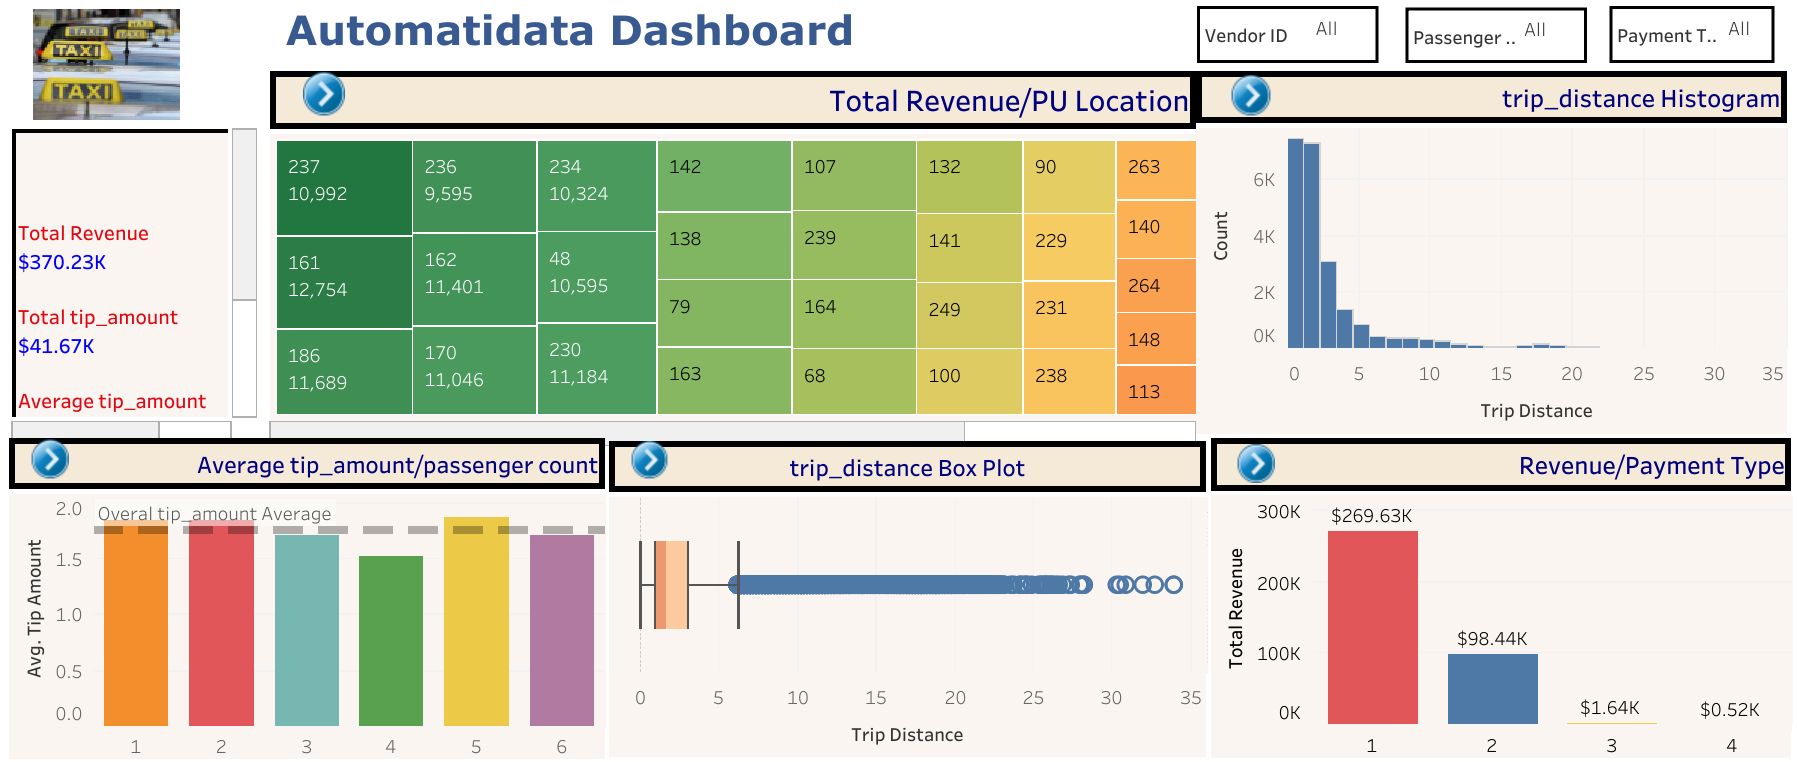

The page's visual inventory and layout, read from the dashboard file:
{"tool":"tableau","page":{"name":"Dashboard 6","canvas":[1000,1000],"units":"permille","ordinal":1},"visuals":[{"type":"filter","title":"avg. tip","param":"[federated.0n8pdzu1b0iim31cx3qr00xyqdhs].[none:VendorID:ok]","box":[665.2,8.6,101,74.6]},{"type":"filter","title":"avg. tip","param":"[federated.0n8pdzu1b0iim31cx3qr00xyqdhs].[none:payment_type:ok]","box":[895.3,8.6,91.7,74.6]},{"type":"filter","title":"avg. tip","param":"[federated.0n8pdzu1b0iim31cx3qr00xyqdhs].[none:passenger_count:ok]","box":[781.2,9.8,101,73.4]},{"type":"image","param":"Image/images.jpg","box":[18.7,11,102.9,146.7]},{"type":"worksheet","title":"Rev. PU loc.","mark":"Automatic","box":[149.9,92.9,515.1,492.7]},{"type":"worksheet","title":"hist-tri_dist","mark":"Automatic","rows":["trip_distance"],"cols":["Trip Distance (bin)"],"box":[664.4,92.9,328.7,475.6]},{"type":"dashboard-object","box":[151.5,94.1,57.4,57.5]},{"type":"dashboard-object","box":[667.7,97.8,56.1,53.8]},{"type":"worksheet","title":"calculations","mark":"Automatic","box":[5.6,167.5,137.8,418.1]},{"type":"worksheet","title":"avg. tip","mark":"Bar","rows":["tip_amount"],"cols":["passenger_count"],"box":[5,574.6,331.2,419.3]},{"type":"worksheet","title":"rev_paym.","mark":"Bar","rows":["total_amount"],"cols":["payment_type"],"box":[673.2,574.6,323.1,418.1]},{"type":"dashboard-object","box":[8.1,575.8,39.9,51.3]},{"type":"worksheet","title":"Box-trip_distance","mark":"Automatic","cols":["trip_distance"],"box":[338.5,577,332.3,414.4]},{"type":"dashboard-object","box":[337.3,578.2,48,48.9]},{"type":"dashboard-object","box":[674.6,580.7,48,51.3]}]}

Visuals, with their boxes on the dashboard's canvas, which has no fixed pixel size, in thousandths of its width and height (x1, y1, x2, y2). These are canvas units, not pixel positions in the 1797x762 screenshot, which may show the page scaled, cropped or inside an application window:
"avg. tip" filter: <bbox>665, 9, 766, 83</bbox>
"avg. tip" filter: <bbox>895, 9, 987, 83</bbox>
"avg. tip" filter: <bbox>781, 10, 882, 83</bbox>
image: <bbox>19, 11, 122, 158</bbox>
"Rev. PU loc." worksheet: <bbox>150, 93, 665, 586</bbox>
"hist-tri_dist" worksheet: <bbox>664, 93, 993, 568</bbox>
dashboard-object: <bbox>152, 94, 209, 152</bbox>
dashboard-object: <bbox>668, 98, 724, 152</bbox>
"calculations" worksheet: <bbox>6, 168, 143, 586</bbox>
"avg. tip" worksheet (Bar marks): <bbox>5, 575, 336, 994</bbox>
"rev_paym." worksheet (Bar marks): <bbox>673, 575, 996, 993</bbox>
dashboard-object: <bbox>8, 576, 48, 627</bbox>
"Box-trip_distance" worksheet: <bbox>338, 577, 671, 991</bbox>
dashboard-object: <bbox>337, 578, 385, 627</bbox>
dashboard-object: <bbox>675, 581, 723, 632</bbox>
